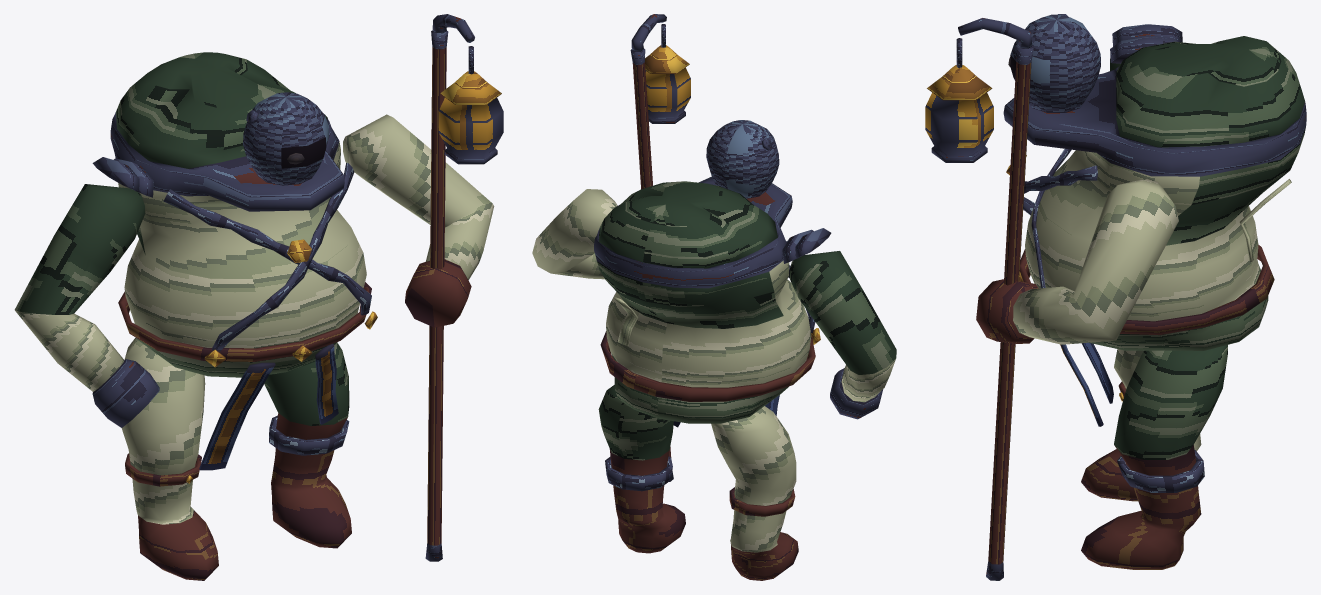
The model's file is gruftwaechter_K2.glb.
3 renders of one model, left to right at view 1: azimuth 30°, elevation 25°; view 2: azimuth 150°, elevation 25°; view 3: azimuth 270°, elevation 25°, orthographic. The views are drawn at different scales.
Parts seen in each view (by area): view 1: torso, arm_l, gear, leg_l, arm_r, pole, leg_r, head; view 2: torso, arm_l, leg_l, leg_r, gear, pole, arm_r, head; view 3: torso, leg_r, arm_r, pole, gear, head, leg_l, arm_l.
Part boxes in pixels (box(x1,y1,x2,y2)): torso: box(110, 52, 366, 377); arm_l: box(14, 157, 159, 427); gear: box(118, 110, 377, 486); leg_l: box(121, 337, 218, 580); arm_r: box(343, 114, 494, 327); pole: box(425, 14, 503, 561); leg_r: box(264, 342, 351, 548); head: box(243, 92, 328, 185); torso: box(594, 176, 811, 423); arm_l: box(782, 228, 896, 419); leg_l: box(711, 406, 798, 580); leg_r: box(598, 385, 685, 553); gear: box(600, 138, 820, 516); pole: box(630, 14, 690, 481); arm_r: box(532, 189, 617, 279); head: box(706, 120, 779, 198); torso: box(1003, 36, 1306, 350); leg_r: box(1081, 345, 1227, 569); arm_r: box(976, 178, 1178, 344); pole: box(925, 18, 1033, 580); gear: box(1006, 14, 1291, 492); head: box(1010, 14, 1100, 112); leg_l: box(1081, 349, 1201, 501); arm_l: box(1110, 24, 1182, 70).
Bounding box in the file's own units: 2.16 × 2.52 × 1.5.
Materials: 1 (1 with a texture image).
